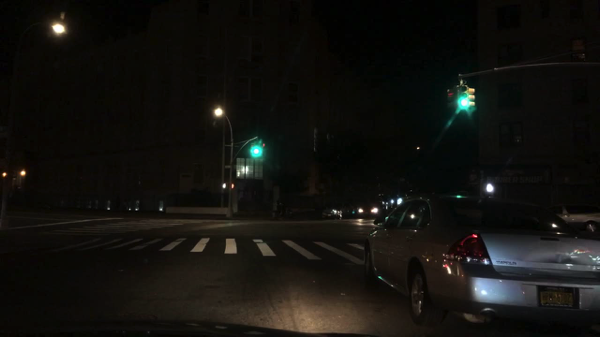car: (359, 195, 598, 330), (547, 204, 598, 233), (357, 205, 379, 217), (321, 206, 341, 219), (338, 203, 352, 216), (389, 198, 403, 205), (379, 199, 388, 209)
traffic light: (445, 87, 457, 110), (459, 85, 468, 107), (469, 88, 476, 108), (485, 183, 494, 193), (254, 141, 259, 155), (260, 141, 265, 155), (249, 143, 254, 155), (223, 183, 228, 188), (230, 184, 234, 190)
